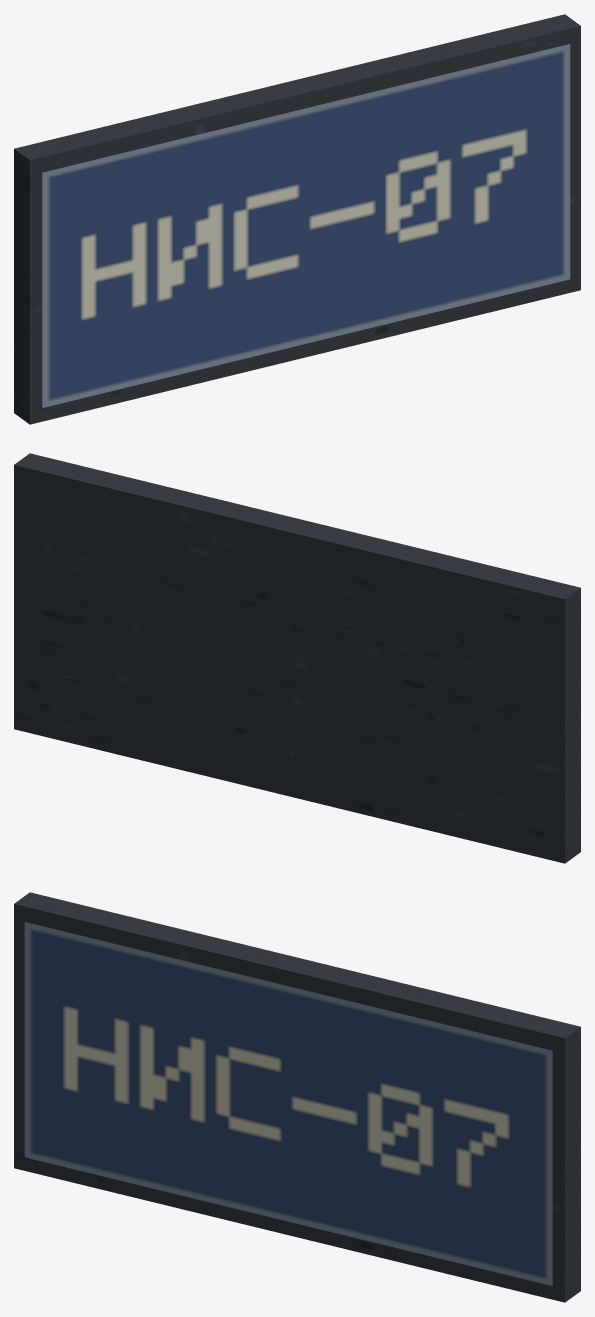
Rendered from LaboratorySign.fbx.
3 views of the same model, one above another, from view 1: azimuth 30°, elevation 25°; view 2: azimuth 150°, elevation 25°; view 3: azimuth 330°, elevation 25° (orthographic).
Parts seen in each view (by area): view 1: LaboratorySign; view 2: LaboratorySign; view 3: LaboratorySign.
Part boxes in pixels (bbox=[...]): LaboratorySign: bbox=[14, 14, 580, 424]; LaboratorySign: bbox=[14, 453, 580, 863]; LaboratorySign: bbox=[14, 892, 580, 1302].
Size of the model in its own units: 240 by 110 by 12.7.
